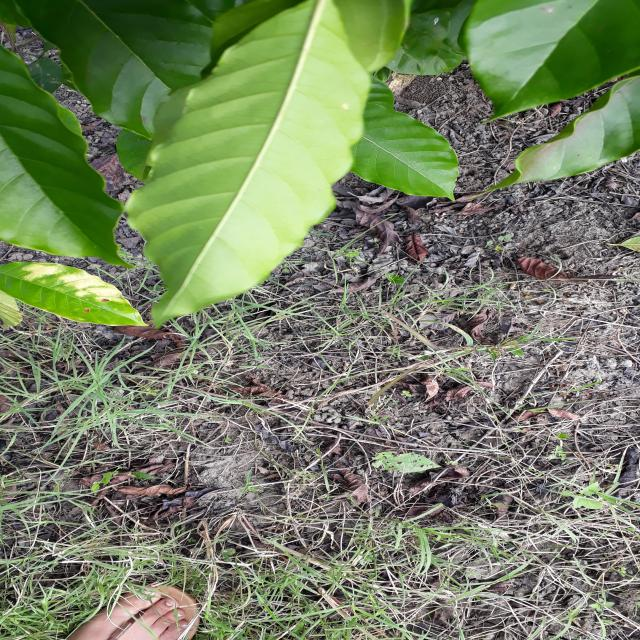Sanas: (117, 0, 371, 329)
